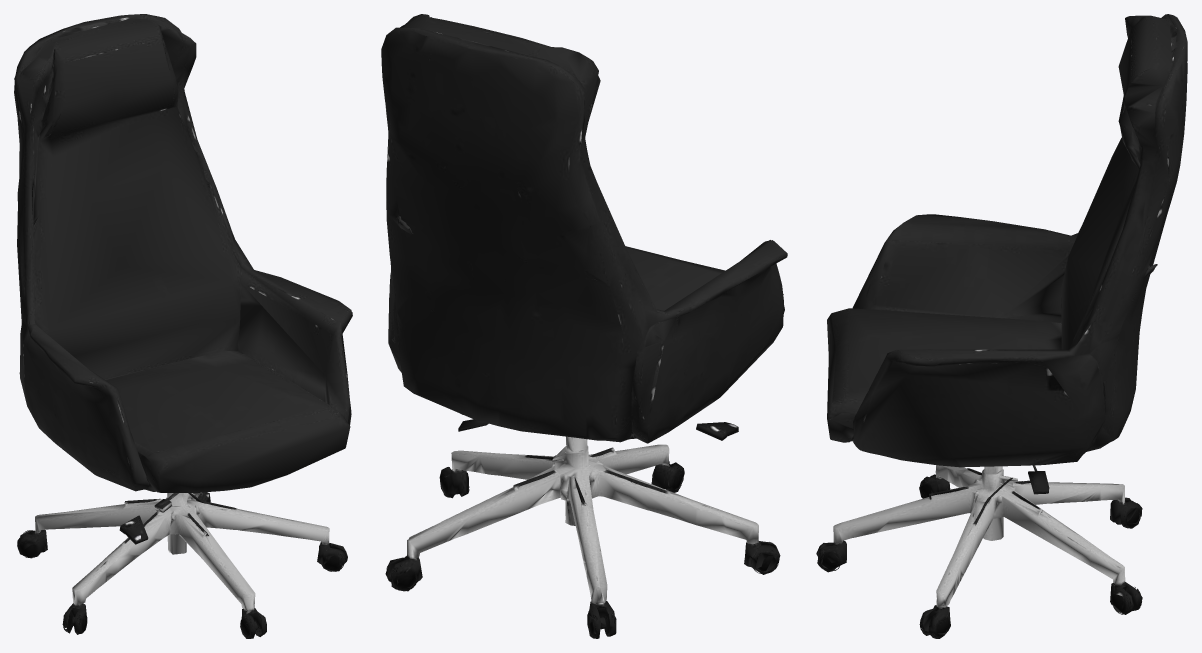
The model's file is chair.glb.
3 views of the same model, side by side, from view 1: azimuth 30°, elevation 25°; view 2: azimuth 150°, elevation 25°; view 3: azimuth 270°, elevation 25° (orthographic). The views are drawn at different scales.
Visible parts, largest first — view 1: world; view 2: world; view 3: world.
Boxes of the visible parts, left/top/right/bottom form: world: left=14, top=14, right=352, bottom=638; world: left=381, top=14, right=787, bottom=638; world: left=816, top=14, right=1187, bottom=638.
Bounding box in the file's own units: 0.5977 × 0.999 × 0.6342.
1 material, 1 textured.
